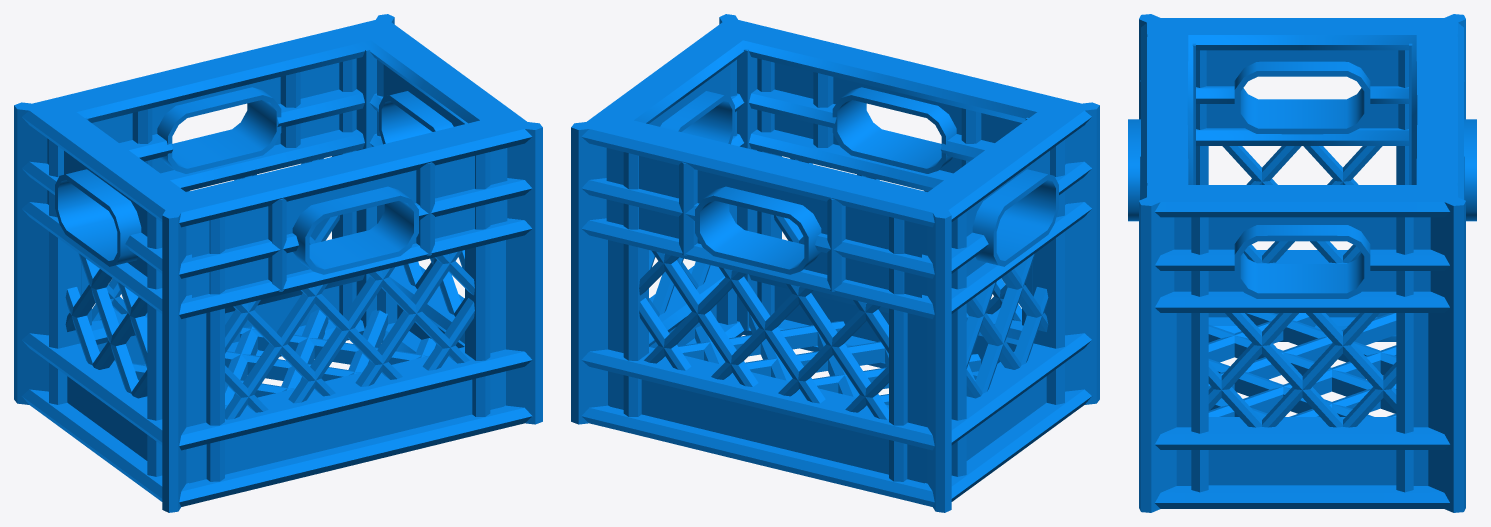
The model's file is Crate_01.fbx.
The picture shows the model from 3 angles, left to right: view 1: azimuth 30°, elevation 25°; view 2: azimuth 150°, elevation 25°; view 3: azimuth 270°, elevation 25°; orthographic projection. The views are drawn at different scales.
Parts seen in each view (by area): view 1: Crate_01; view 2: Crate_01; view 3: Crate_01.
Boxes of the visible parts, box(x1,y1,x2,y2) form: Crate_01: box(14, 14, 542, 512); Crate_01: box(571, 14, 1099, 512); Crate_01: box(1128, 14, 1476, 512).
Bounding box in the file's own units: 0.5427 × 0.4 × 0.412.
